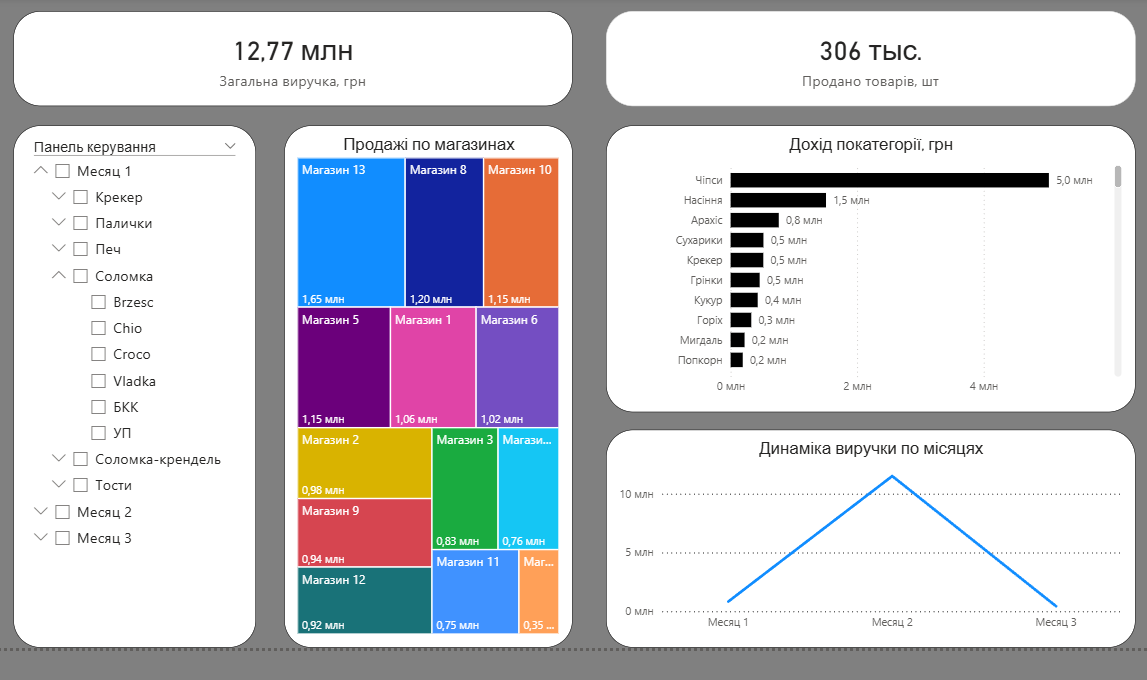

This screenshot's page, from the dashboard's own definition file:
{"tool":"powerbi","page":{"name":"Страница 1","canvas":[1280,720],"ordinal":0},"visuals":[{"type":"clusteredBarChart","title":"Дохід покатегорії, грн","fields":{"Category":["Sales_Fact.Категория"],"Y":["Sum(Sales_Fact.Сумма)"]},"box":[677,142,585.5,317.1],"z":0},{"type":"card","fields":{"Values":["Sum(Sales_Fact.Сумма)"]},"box":[21.4,15.6,618.6,105],"z":1000},{"type":"card","fields":{"Values":["Sum(Sales_Fact.Количество)"]},"box":[677,15.6,585.5,105],"z":2000},{"type":"treemap","title":"Продажі по магазинах","fields":{"Group":["Sales_Fact.Магазин"],"Values":["Sum(Sales_Fact.Сумма)"]},"box":[321,142,319,577.8],"z":3000},{"type":"slicer","fields":{"Values":["Sales_Fact.Месяц","Sales_Fact.Категория","Sales_Fact.Бренд"]},"box":[21.4,142,268.4,577.8],"z":4000},{"type":"lineChart","title":"Динаміка виручки по місяцях","fields":{"Category":["Sales_Fact.Месяц"],"Y":["Sum(Sales_Fact.Сумма)"]},"box":[677,478.5,585.5,241.2],"z":5000}]}

Visuals, with their boxes in screenshot pixels (x1, y1, x2, y2):
"Дохід покатегорії, грн" clusteredBarChart: [605, 121, 1142, 412]
card - Sum(Sales_Fact.Сумма): [5, 5, 571, 102]
card - Sum(Sales_Fact.Количество): [605, 5, 1142, 102]
"Продажі по магазинах" treemap: [279, 121, 571, 651]
slicer - Sales_Fact.Месяц x Sales_Fact.Категория: [5, 121, 251, 651]
"Динаміка виручки по місяцях" lineChart: [605, 429, 1142, 650]
